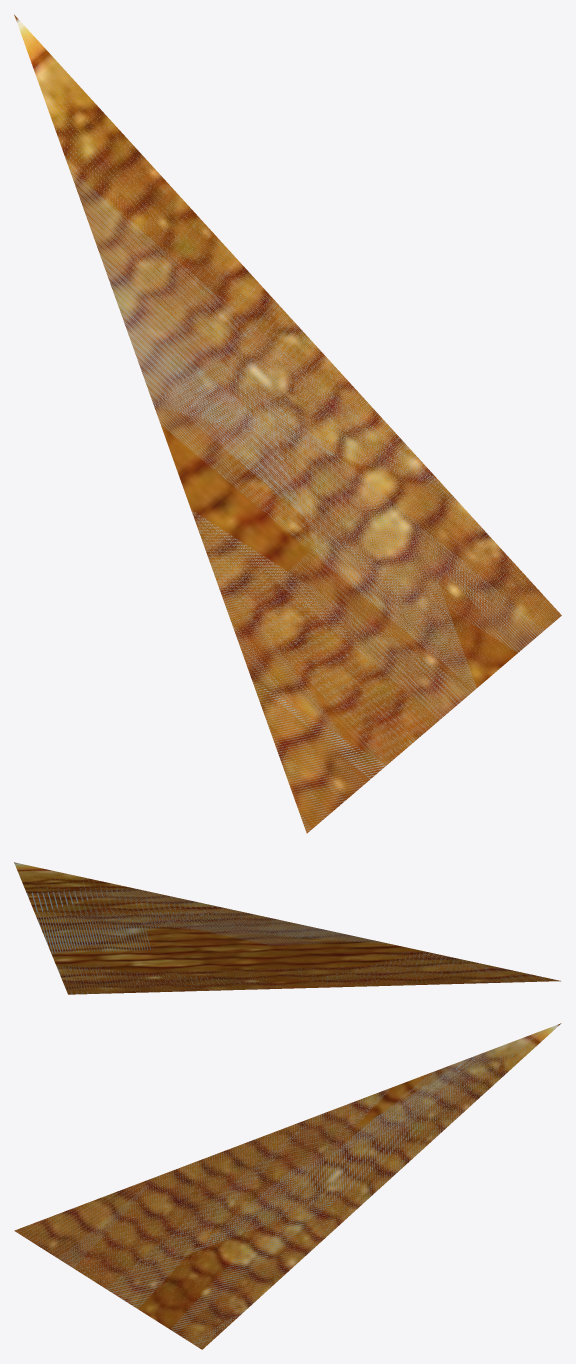
Rendered from 西庸城堡287.dae.
The picture shows the model from 3 angles, top to bottom: view 1: azimuth 30°, elevation 25°; view 2: azimuth 150°, elevation 25°; view 3: azimuth 270°, elevation 25°; orthographic projection. The views are drawn at different scales.
Parts seen in each view (by area): view 1: SketchUp; view 2: SketchUp; view 3: SketchUp.
Part boxes in pixels (x1,y1,x2,y2): SketchUp: [14, 14, 561, 833]; SketchUp: [14, 862, 560, 994]; SketchUp: [14, 1023, 561, 1349].
Bounding box in the file's own units: 58.7 × 114 × 59.06.
